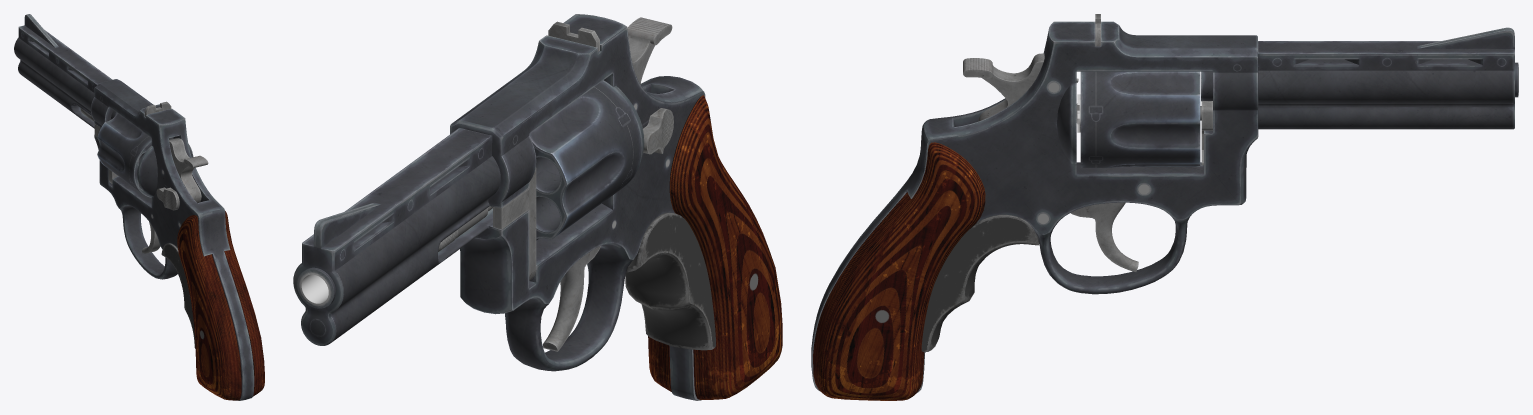
Rendered from revolver.glb.
The picture shows the model from 3 angles, left to right: view 1: azimuth 30°, elevation 25°; view 2: azimuth 150°, elevation 25°; view 3: azimuth 270°, elevation 25°; orthographic projection. The views are drawn at different scales.
Visible parts, largest first — view 1: Object_2, Object_4, Object_5, Object_3; view 2: Object_2, Object_4, Object_3, Object_5, Object_6; view 3: Object_2, Object_4, Object_3, Object_5.
Boxes of the visible parts, box(x1,y1,x2,y2) form: Object_2: box(14, 14, 242, 400); Object_4: box(18, 15, 264, 400); Object_5: box(111, 110, 254, 400); Object_3: box(97, 113, 192, 257); Object_2: box(302, 14, 715, 400); Object_4: box(297, 21, 782, 399); Object_3: box(293, 80, 711, 351); Object_5: box(466, 243, 696, 400); Object_6: box(438, 206, 492, 251); Object_2: box(811, 19, 1518, 393); Object_4: box(813, 14, 1518, 400); Object_3: box(928, 53, 1514, 351); Object_5: box(811, 71, 1243, 381).
Bounding box in the file's own units: 38.17 × 143 × 248.
Materials: 2 (2 with a texture image).
